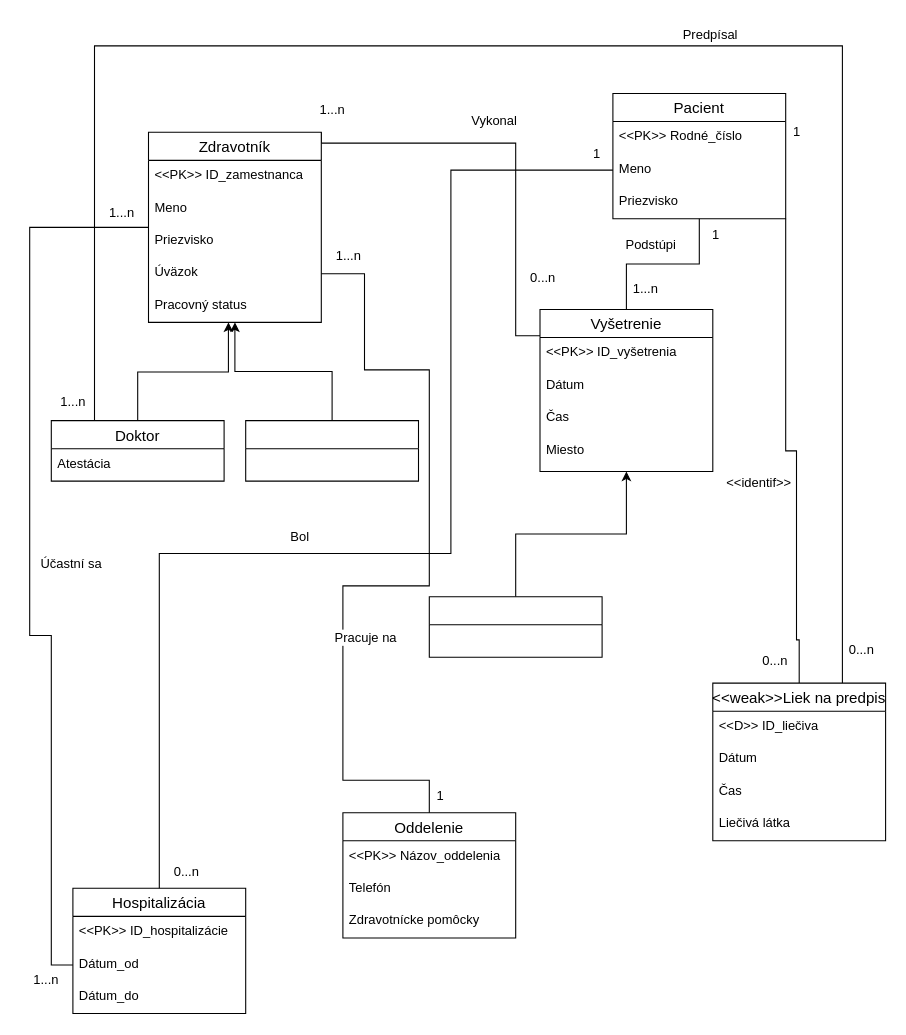
The diagram is 906 pixels wide and 1035 high, and some of its shapes have lost their labels. The centre of each missing label's shape, as x and y in pixels:
"Sestra" goes at pixel 331 450.
"Zákrok" goes at pixel 515 626.
